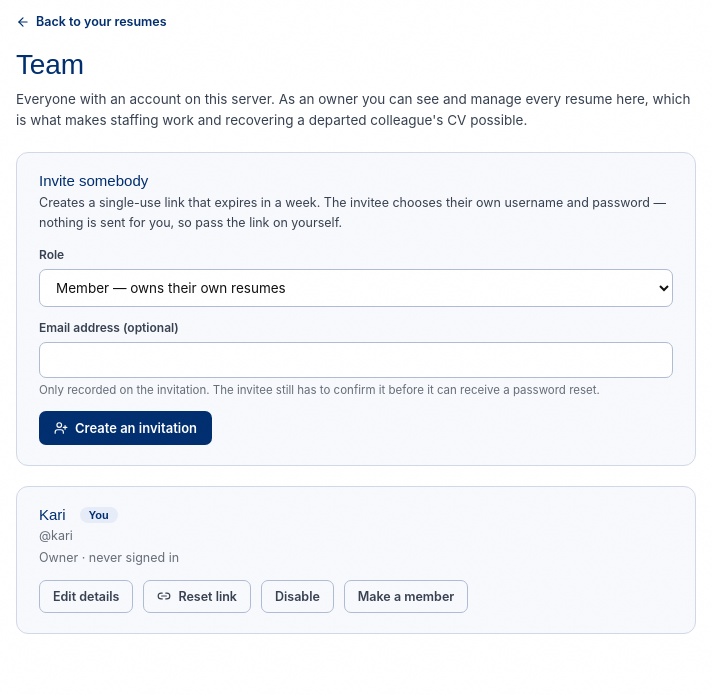
Test case: <TeamScreen> › shows the server's refusal to strand an instance without an owner
Click the button "Make a member".
click(406, 596)  # box [344,580,468,613]
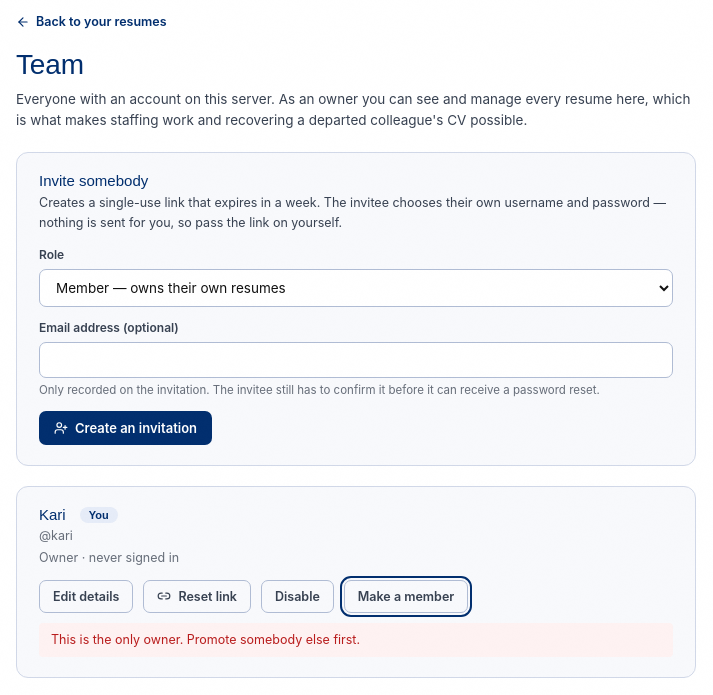
Check: the message shows "only owner. Promote somebody else first", box [51,632,360,647]
